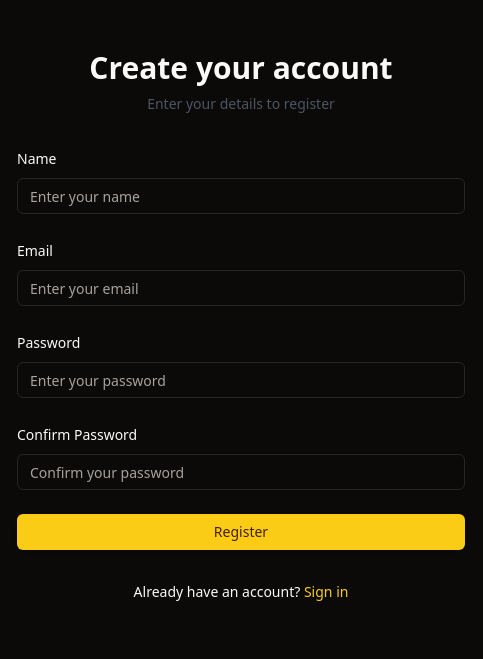
Scenario: RegisterPage Unit Tests › validates password confirmation
Step 1. Type "password123" into the password field labelled "Password" → point(241, 380), box [17,362,465,398]
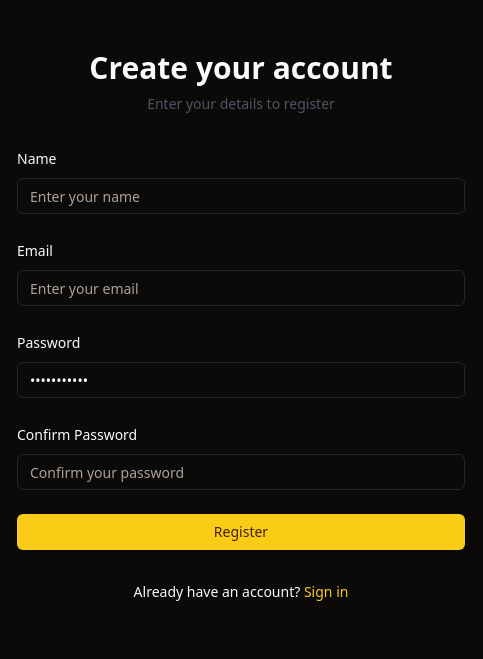
Step 2. Type "password321" into the password field labelled "Confirm Password" → point(241, 472), box [17,454,465,490]
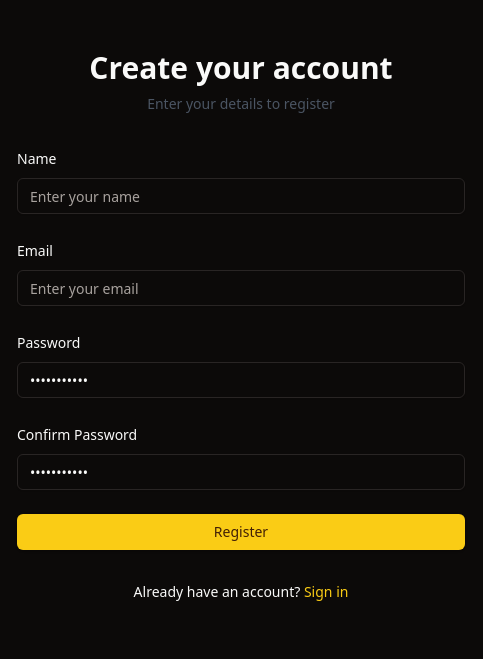
Step 3. Click the button "Register" → point(241, 532), box [17,514,465,550]
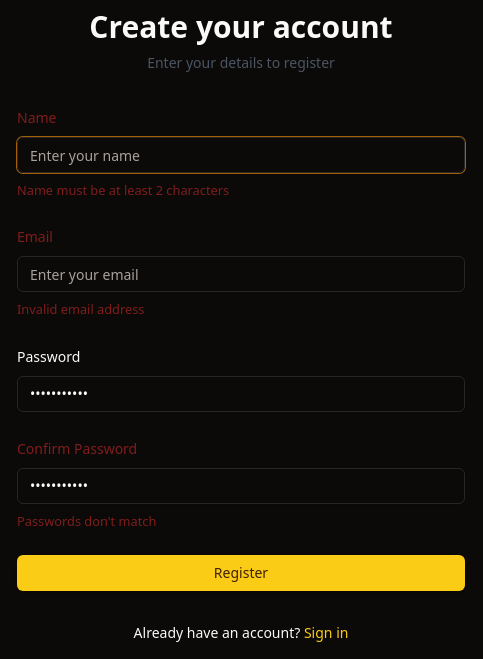
Expected: the text "Passwords don't match" is shown, [17,512,156,530]
